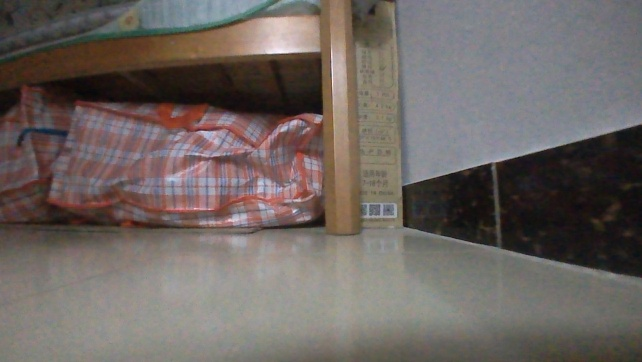bed1: (0, 0, 362, 238)
